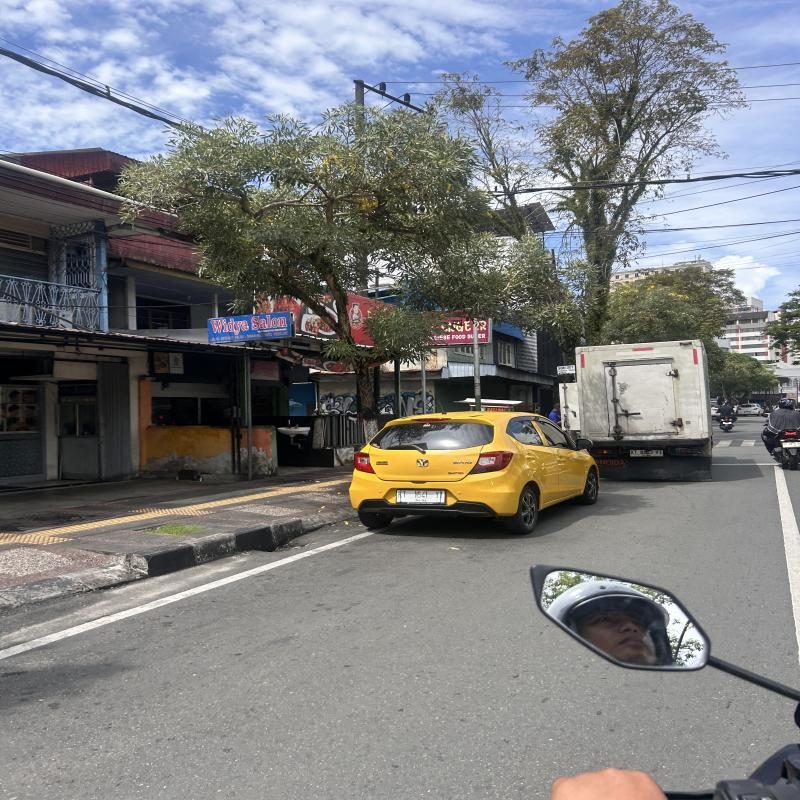license plate on a car: (396, 489, 446, 504), (630, 449, 663, 457)
